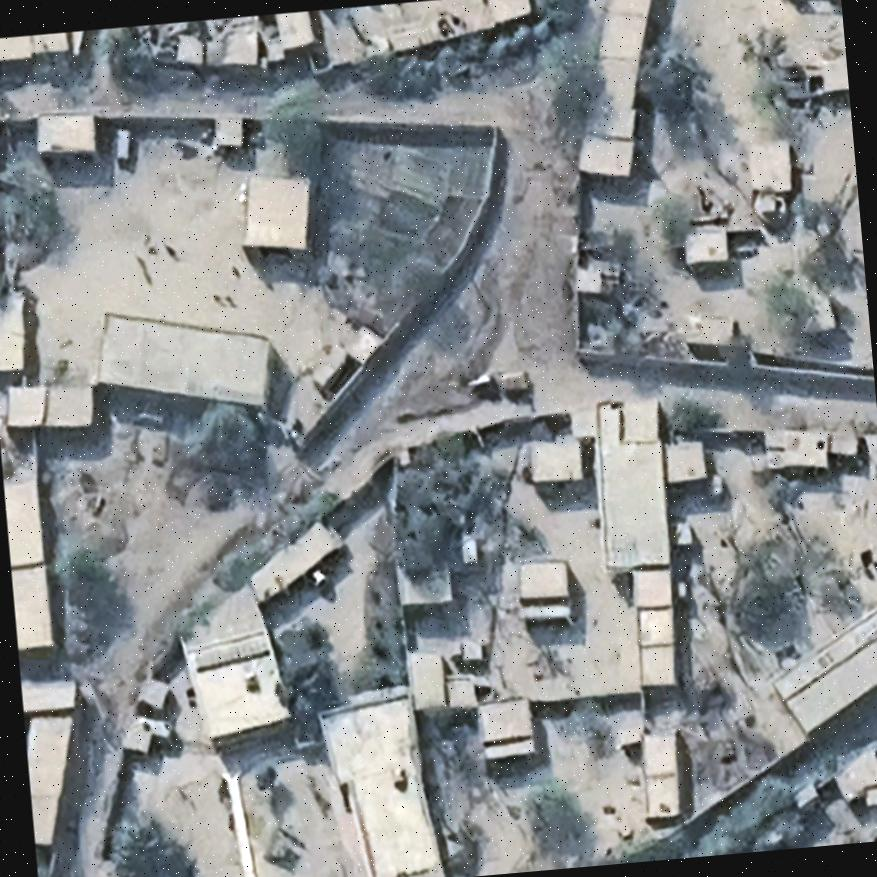Solarpanel: (186, 628, 270, 670)
